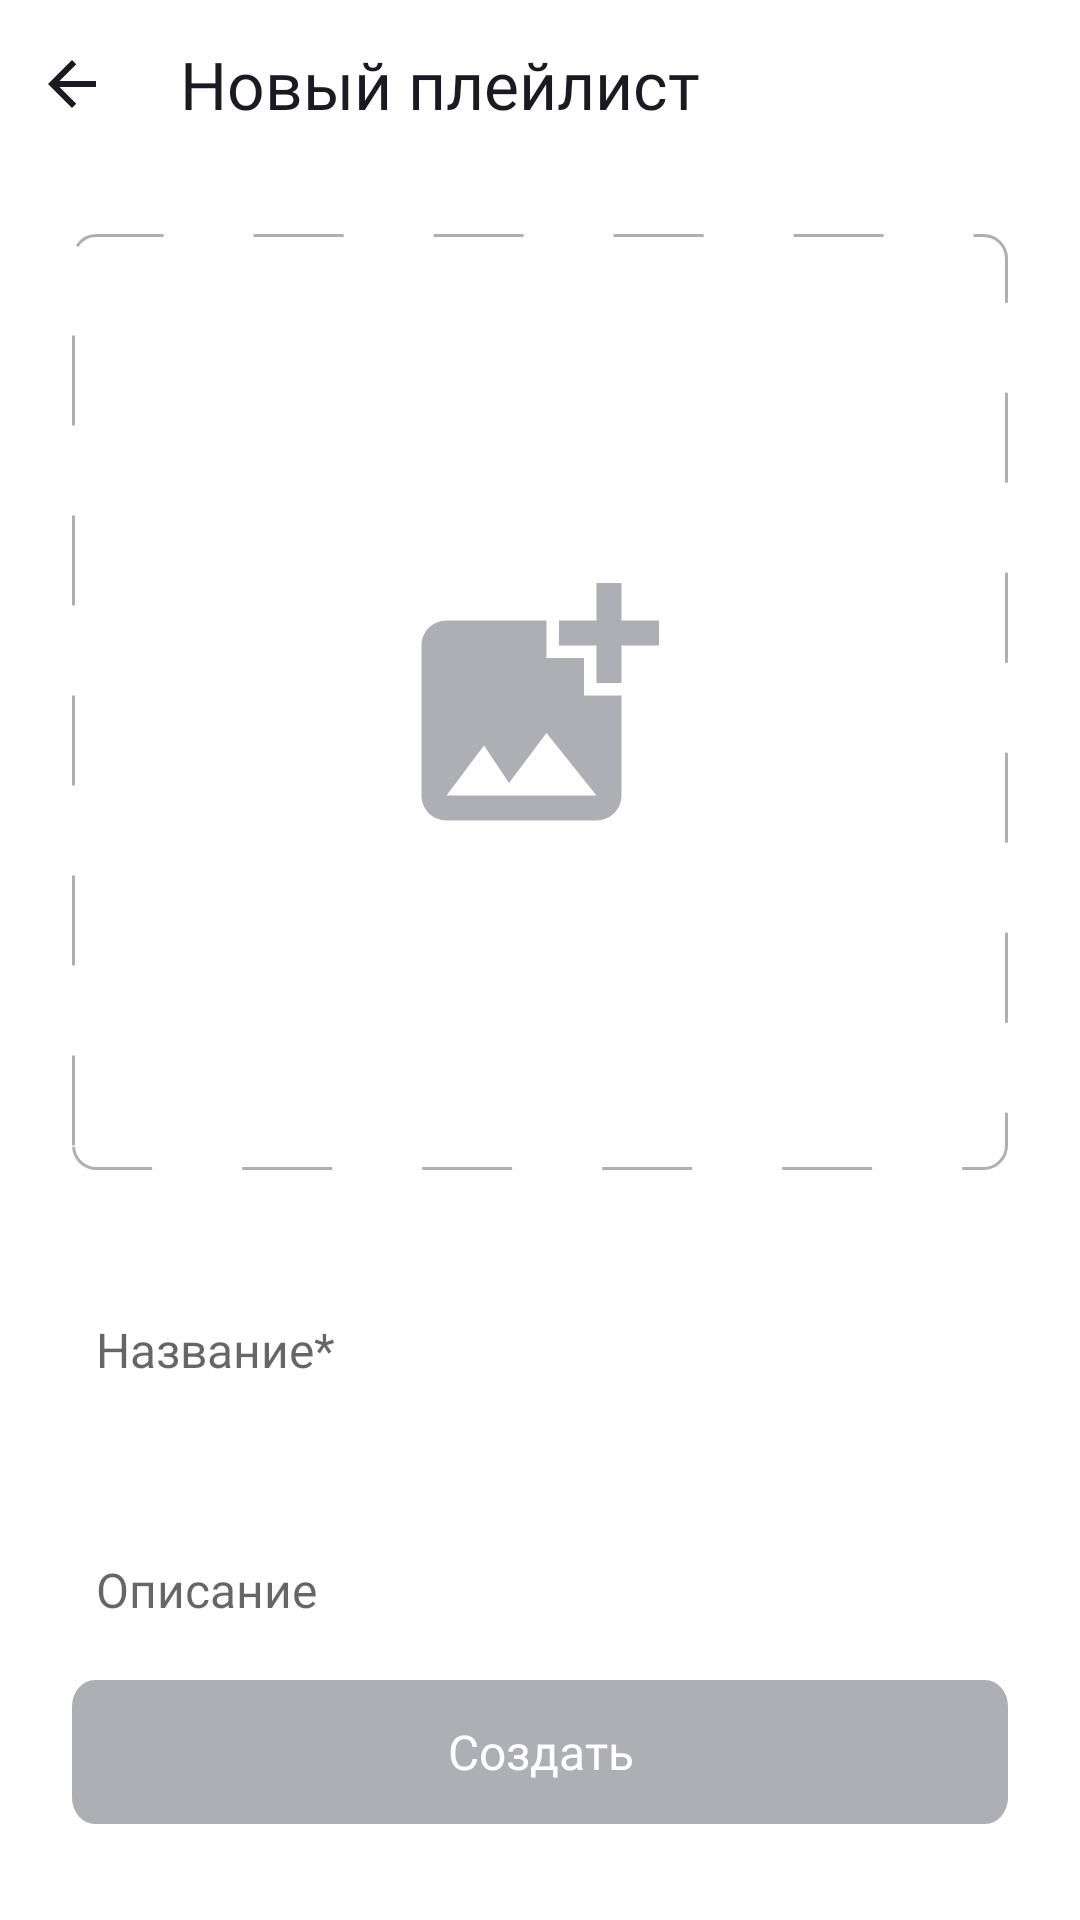

Screen size 1080 x 1920. Icon name, then its box in pixels as (x1, y1, x2, y2):
add playlist iphoto: (421, 583, 659, 821)
back: (48, 60, 96, 108)
